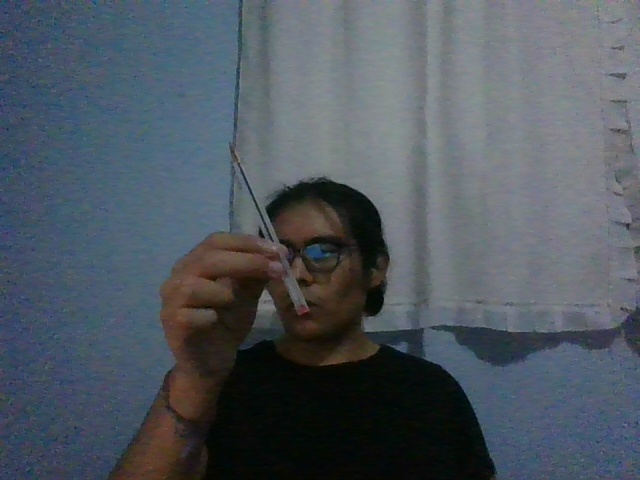pluma: (228, 141, 310, 318)
